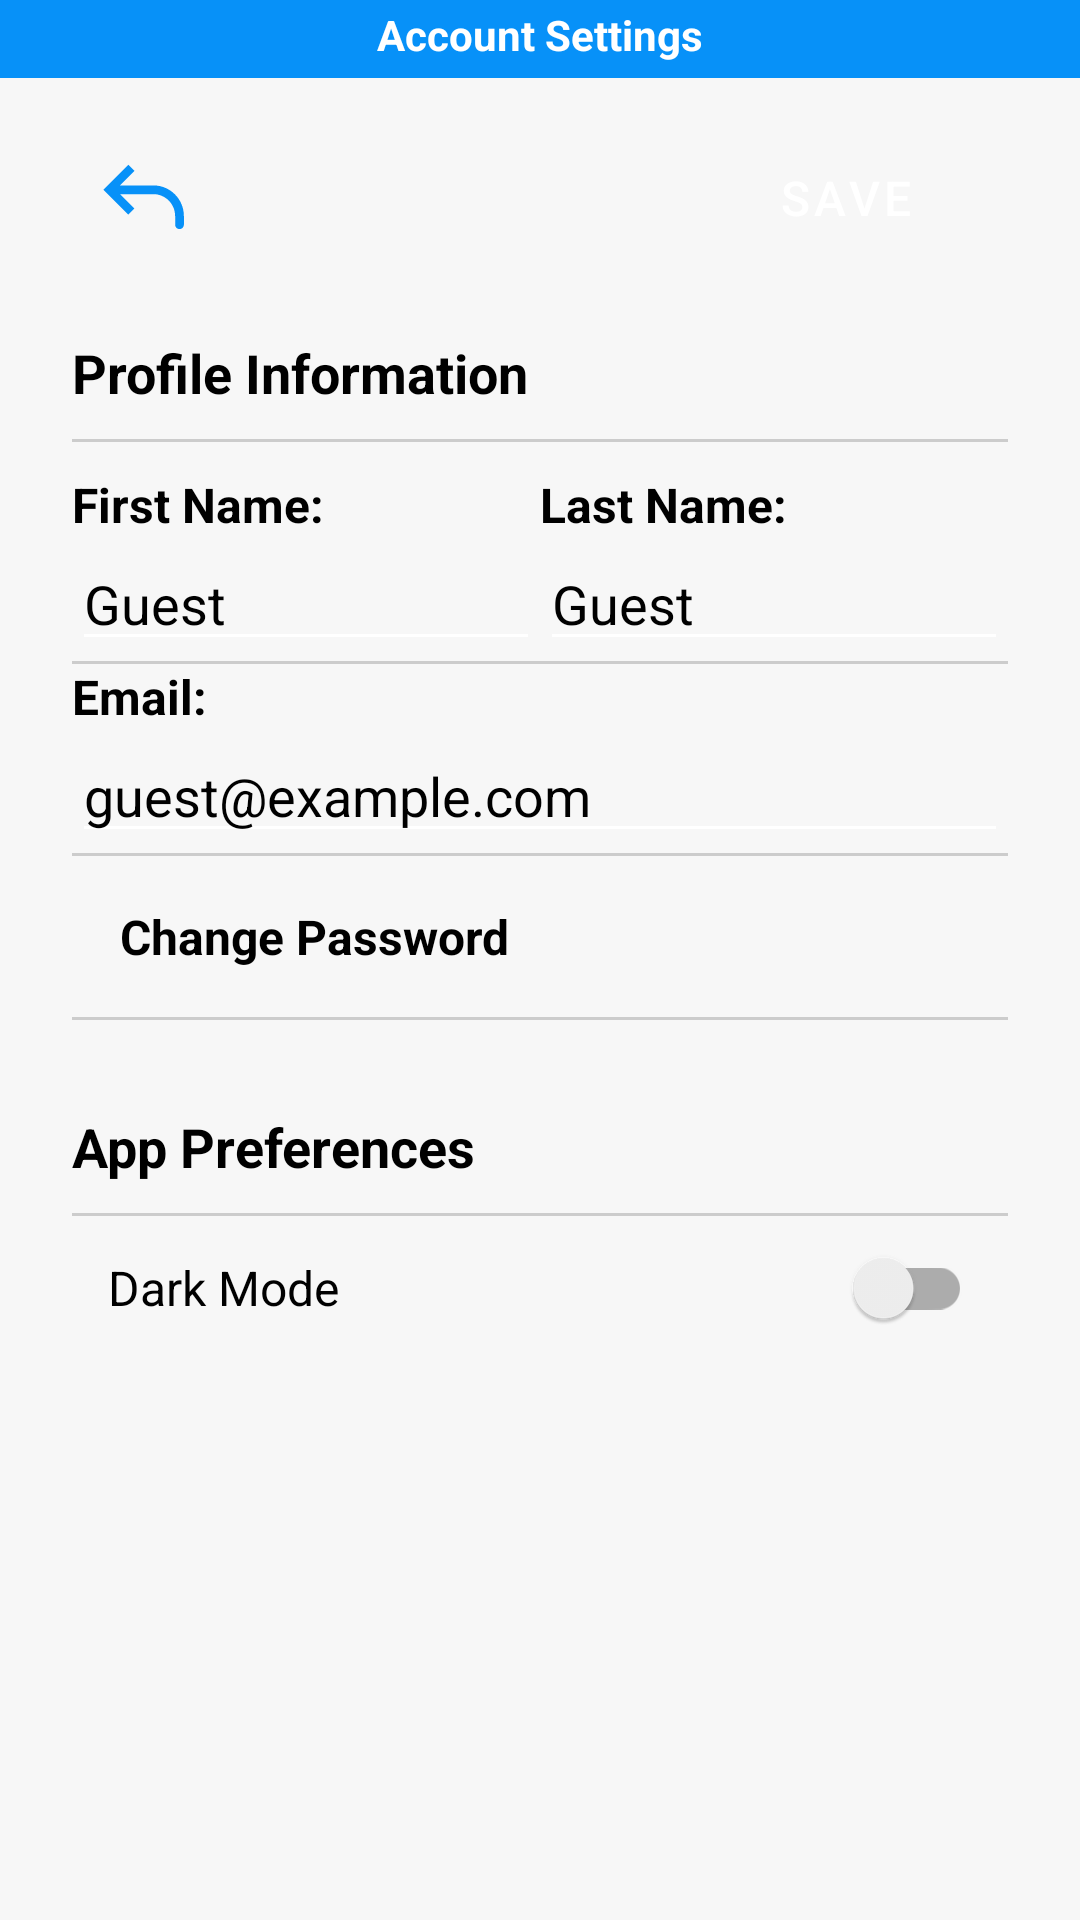

Icons on this 1080w x 1920h Android screen, each with the point to tap as point (x, y):
back: point (143, 197)
